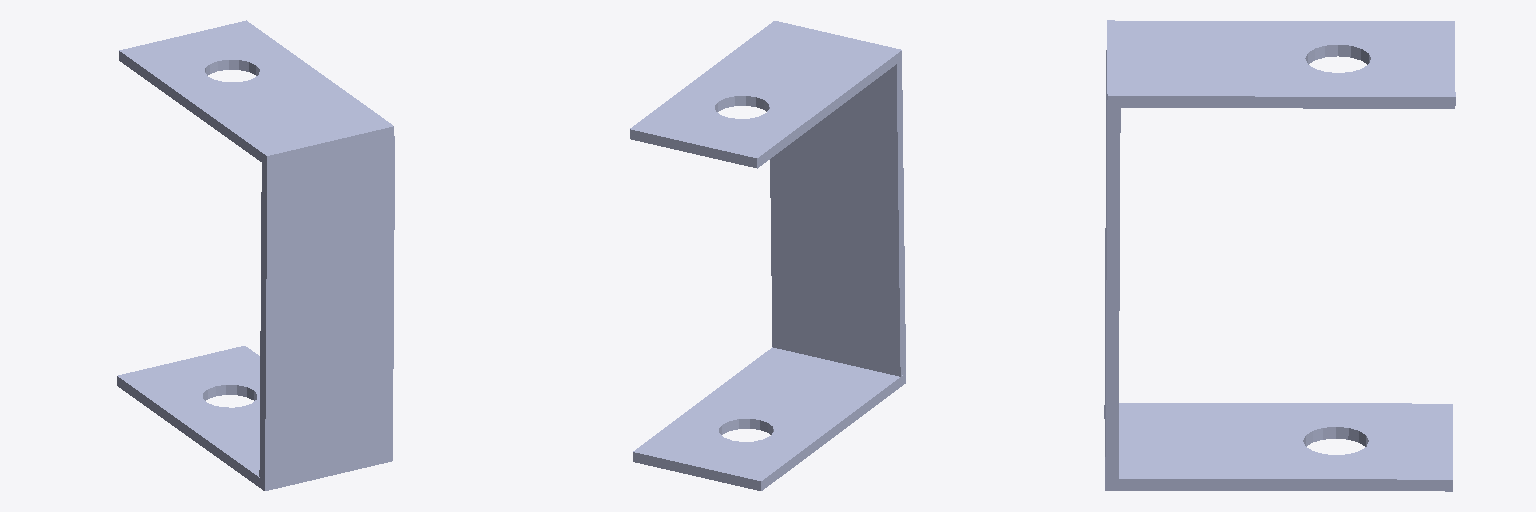
The robot description file, URDF, robot "large_bracket":
<robot
  name="large_bracket">
  <link
    name="large_bracket">
    <inertial>
      <origin
        xyz="0 0 0"
        rpy="0 0 0" />
      <mass
        value="0" />
      <inertia
        ixx="0"
        ixy="0"
        ixz="0"
        iyy="0"
        iyz="0"
        izz="0" />
    </inertial>
    <visual>
      <origin
        xyz="0 0 0"
        rpy="1.5707963267949 0 0" />
      <geometry>
        <mesh
          filename="package://large_bracket/meshes/large_bracket.STL" />
      </geometry>
      <material
        name="">
        <color
          rgba="0.79216 0.81961 0.93333 1" />
      </material>
    </visual>
    <collision>
      <origin
        xyz="0 0 0"
        rpy="1.5707963267949 0 0" />
      <geometry>
        <mesh
          filename="package://large_bracket/meshes/large_bracket.STL" />
      </geometry>
    </collision>
  </link>
</robot>

--- What the picture shows (computed from the rendered views, not written in the file) ---
3 views of the same robot in one strip: view 1: azimuth 30°, elevation 25°; view 2: azimuth 150°, elevation 25°; view 3: azimuth 270°, elevation 25° (orthographic).
Robot: large_bracket — 1 links, 0 joints (none); root link large_bracket; default pose: every joint at zero.
Links seen in each view (by area): view 1: large_bracket; view 2: large_bracket; view 3: large_bracket.
Link boxes in pixels (x1,y1,x2,y2): large_bracket: [117, 20, 394, 490]; large_bracket: [630, 21, 905, 490]; large_bracket: [1104, 20, 1455, 491].
Size in the robot's own frame: 21.07 by 40.61 by 50.96 metres.
1 mesh visuals loaded from 1 distinct referenced files (1 binary STL).